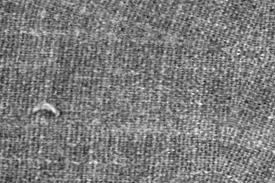snag: (32, 103, 63, 122)
